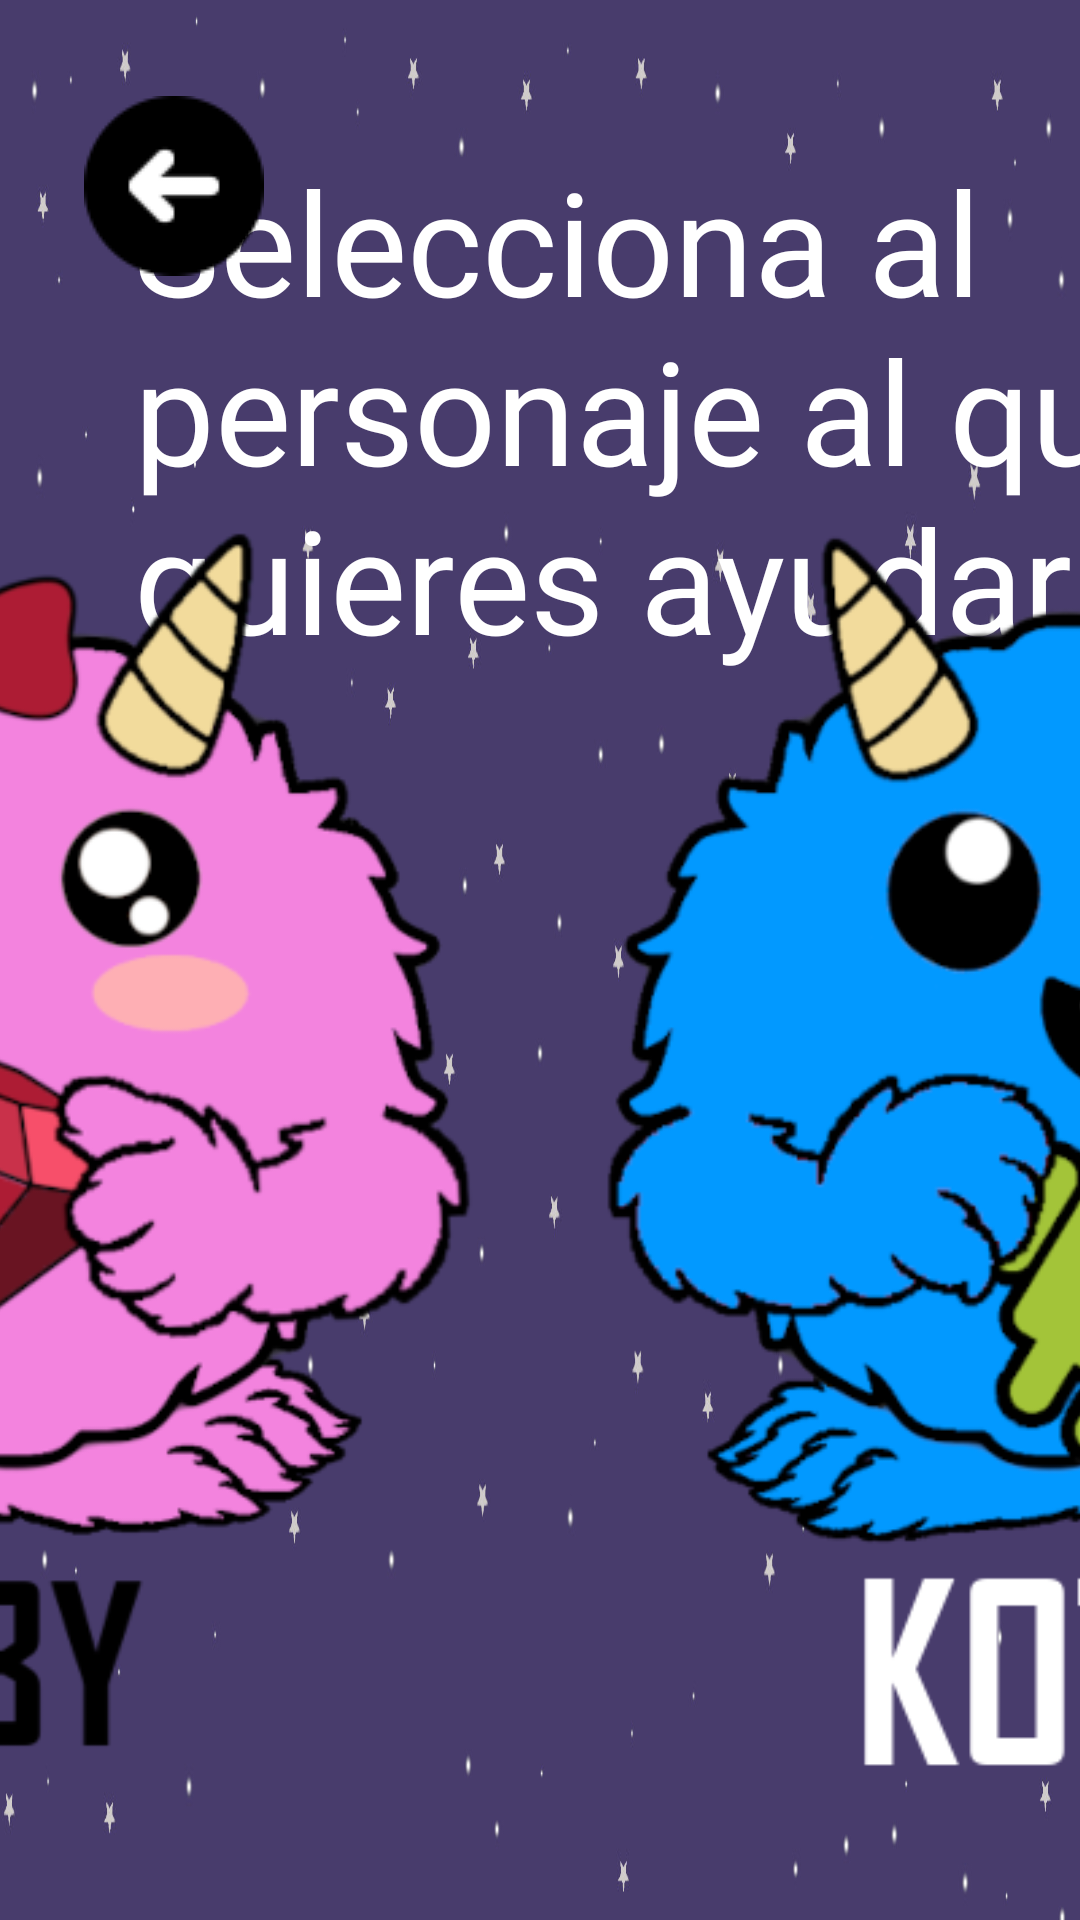

Screen size 1080×1920. Icon name, then its box in pixels as (x1,y1,x2,y2):
Return to prevoius screen: (84,96,264,276)
